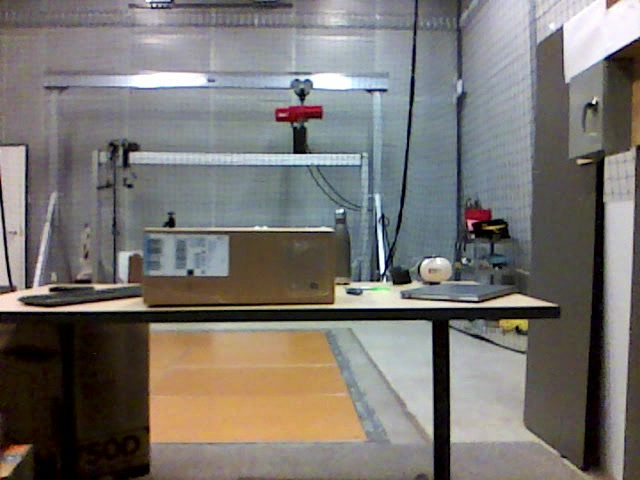box: (1, 323, 151, 477), (144, 229, 337, 306)
